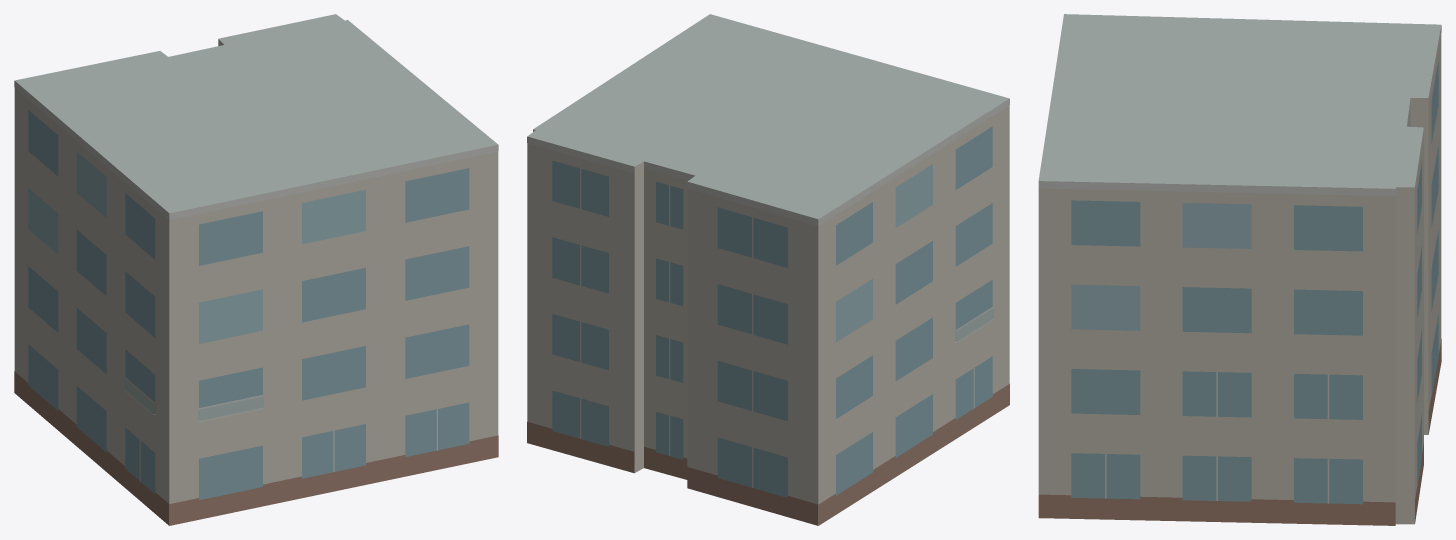
File: survey-upis-32829484.glb
3 views of the same model, side by side, from view 1: azimuth 30°, elevation 25°; view 2: azimuth 150°, elevation 25°; view 3: azimuth 270°, elevation 25° (orthographic). The views are drawn at different scales.
Visible parts, largest first — view 1: survey-upis-32829484.tmp; view 2: survey-upis-32829484.tmp; view 3: survey-upis-32829484.tmp.
Boxes of the visible parts, x1,y1,x2,y2 form: survey-upis-32829484.tmp: (14, 14, 498, 525); survey-upis-32829484.tmp: (527, 14, 1009, 525); survey-upis-32829484.tmp: (1038, 14, 1441, 525).
Bounding box in the file's own units: 12.41 × 11.15 × 12.09.
